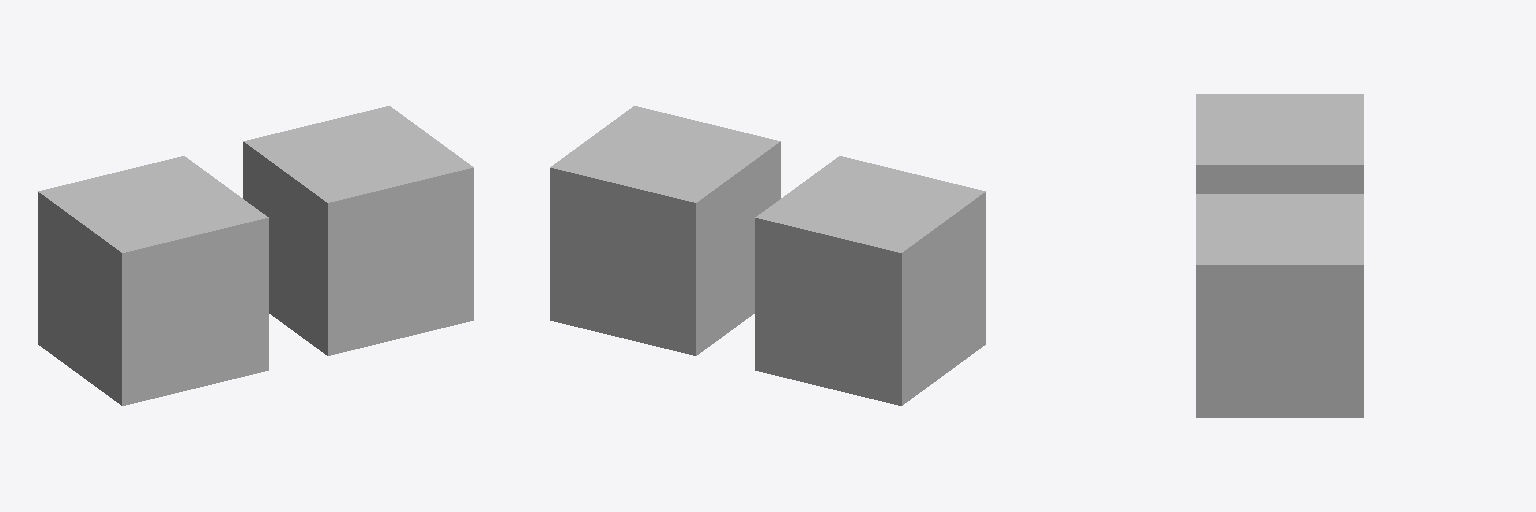
The model's file is cubes.obj.
The picture shows the model from 3 angles: view 1: azimuth 30°, elevation 25°; view 2: azimuth 150°, elevation 25°; view 3: azimuth 270°, elevation 25°; orthographic projection.
Visible parts, largest first — view 1: pCube2, pCube1; view 2: pCube2, pCube1; view 3: pCube1, pCube2.
Boxes of the visible parts, x1,y1,x2,y2 form: pCube2: [38, 156, 268, 405]; pCube1: [243, 106, 473, 355]; pCube2: [755, 156, 985, 405]; pCube1: [550, 106, 780, 355]; pCube1: [1196, 194, 1363, 417]; pCube2: [1196, 94, 1363, 193].
Size of the model in its own units: 2.4 by 1 by 1.